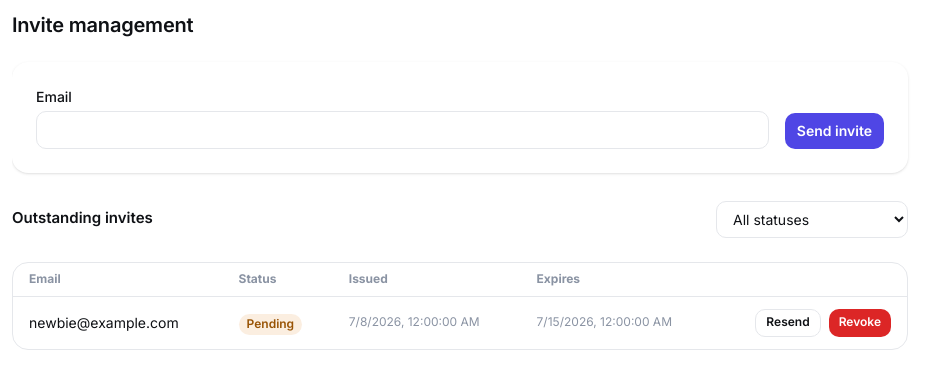
Test: InvitesPage › revokes a pending invite and removes it from the list
Click the button "Revoke" at (860, 323), box x1=829 y1=309 x2=891 y2=337
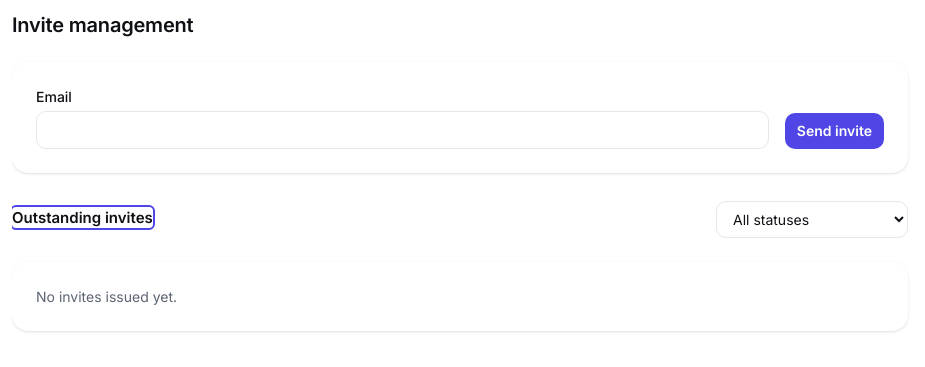
Expected: the text "newbie@example.com" is gone
